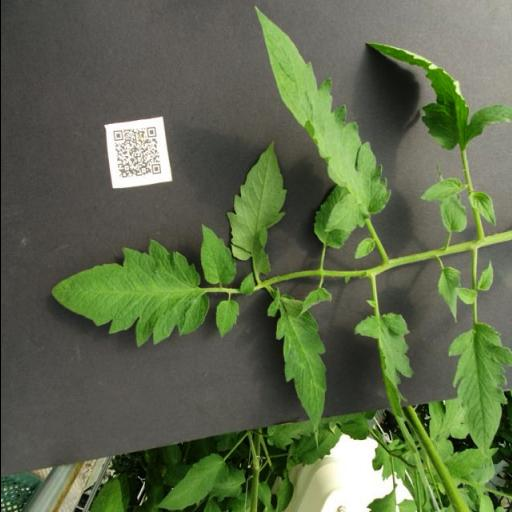Healthy: (253, 6, 390, 232), (49, 239, 208, 347), (365, 42, 512, 146), (265, 287, 327, 451), (447, 322, 512, 460), (353, 312, 416, 452), (226, 142, 286, 276), (200, 225, 236, 285)
